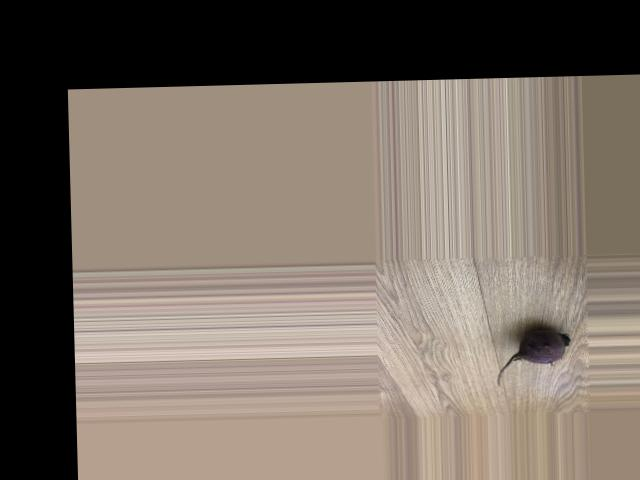beet: (494, 328, 569, 386)
